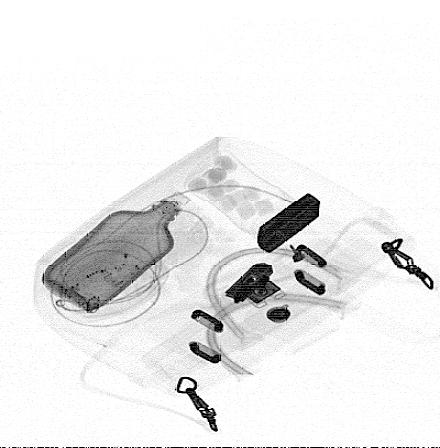Lighter: (256, 193, 322, 254)
